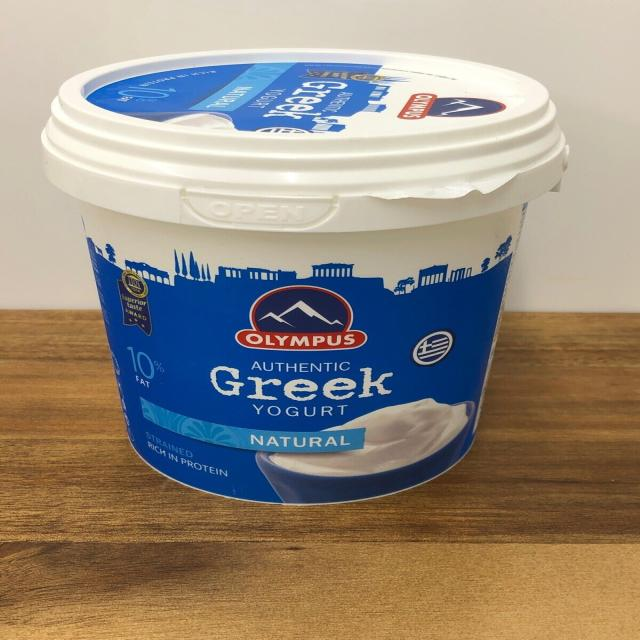plastic: (45, 46, 568, 510)
